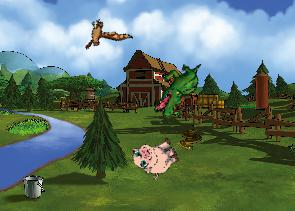crocodile: (152, 55, 203, 122)
eagle: (75, 7, 133, 62)
pig: (128, 130, 183, 183)
